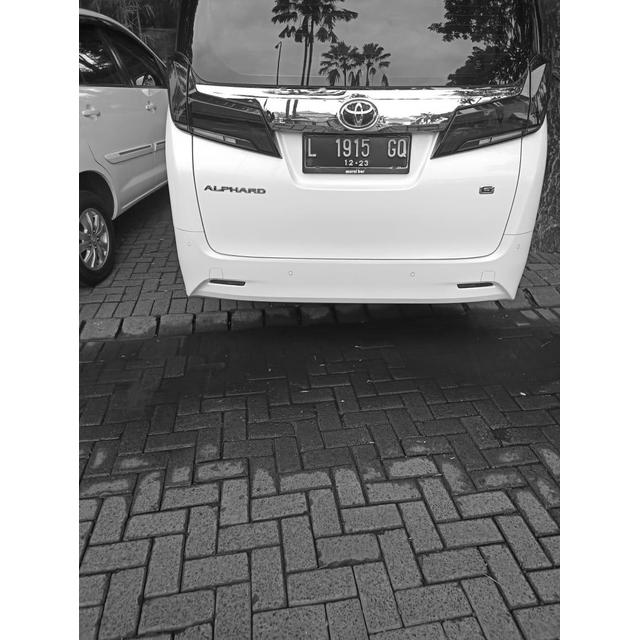license: (306, 137, 407, 166)
